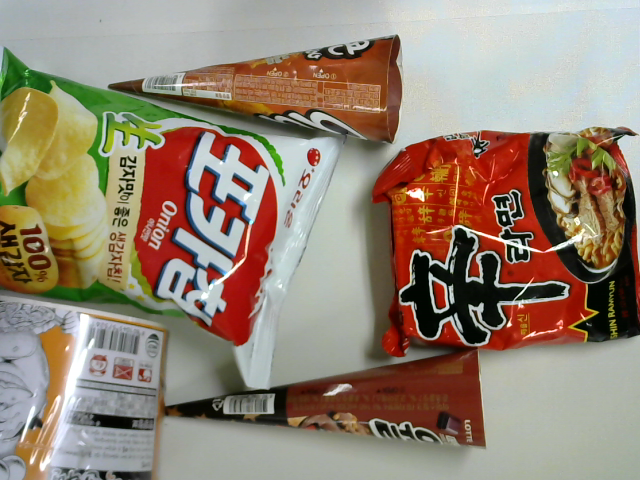GooGoo_Cone_CVS: (96, 33, 412, 139)
Hejangchan: (1, 288, 174, 479)
Pocachip_Onion: (1, 51, 347, 398)
Sinramen: (369, 113, 640, 370)
World_Cone_Choco: (128, 346, 502, 455)
